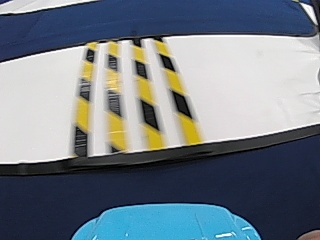bump: (69, 47, 200, 142)
